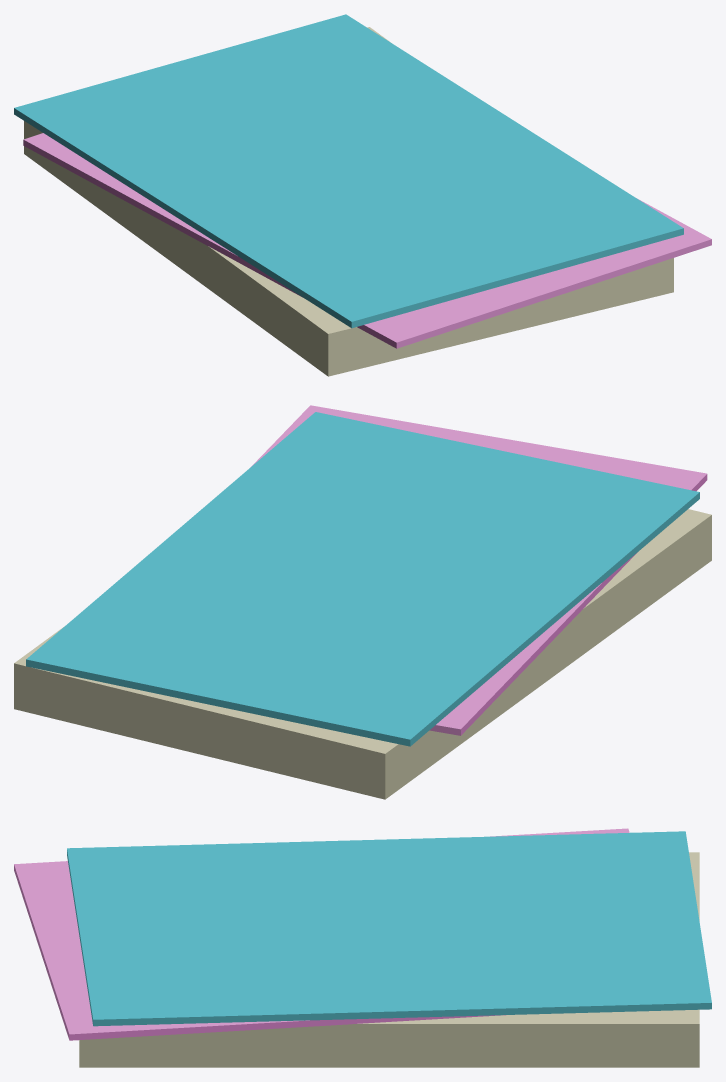
Rendered from SO_Papers_01.fbx.
The picture shows the model from 3 angles, top to bottom: view 1: azimuth 30°, elevation 25°; view 2: azimuth 150°, elevation 25°; view 3: azimuth 270°, elevation 25°; orthographic projection. The views are drawn at different scales.
Visible parts, largest first — view 1: SO_Papers_01; view 2: SO_Papers_01; view 3: SO_Papers_01.
Boxes of the visible parts, x1,y1,x2,y2 form: SO_Papers_01: (14, 14, 711, 376); SO_Papers_01: (14, 405, 711, 799); SO_Papers_01: (14, 828, 711, 1067).
Bounding box in the file's own units: 0.5715 × 0.0725 × 0.8182.
